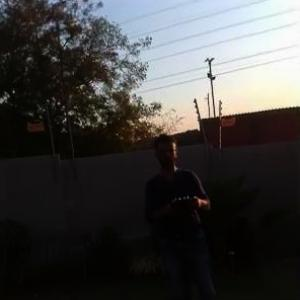follow: (140, 129, 222, 299)
